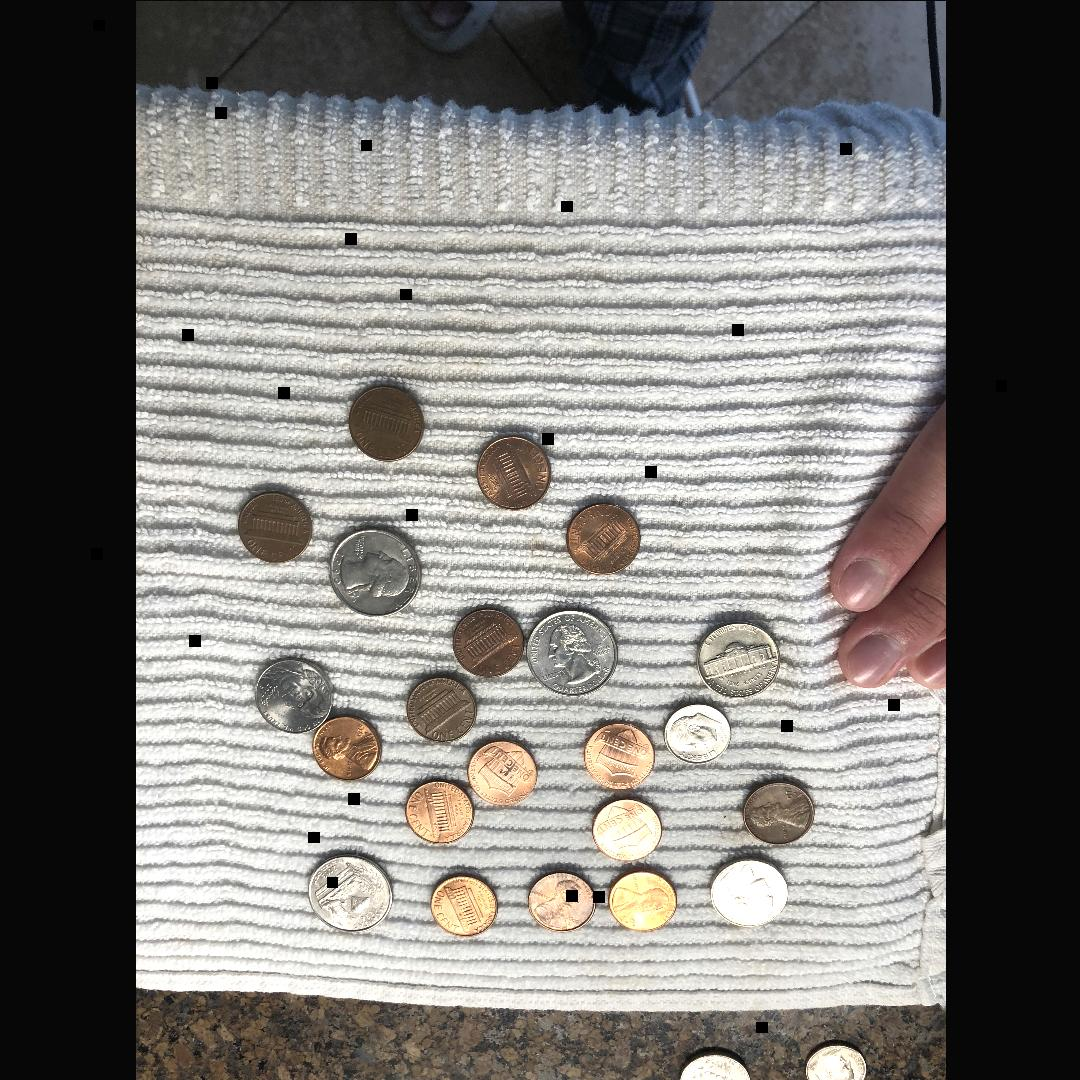Dime: (665, 702, 729, 764), (802, 1042, 870, 1080)
Nickel: (695, 618, 779, 700), (254, 658, 330, 732), (708, 858, 788, 926)
Penny: (446, 602, 524, 676), (348, 384, 424, 459), (236, 488, 312, 562), (475, 435, 550, 509), (567, 502, 638, 574), (738, 777, 814, 844), (404, 672, 474, 742), (426, 872, 500, 937), (467, 738, 537, 806), (582, 722, 653, 788), (606, 868, 674, 934), (591, 795, 661, 859), (404, 778, 474, 842), (530, 868, 594, 934), (314, 717, 378, 781)
Quarter: (327, 526, 421, 616), (524, 610, 620, 696), (306, 852, 394, 934)
